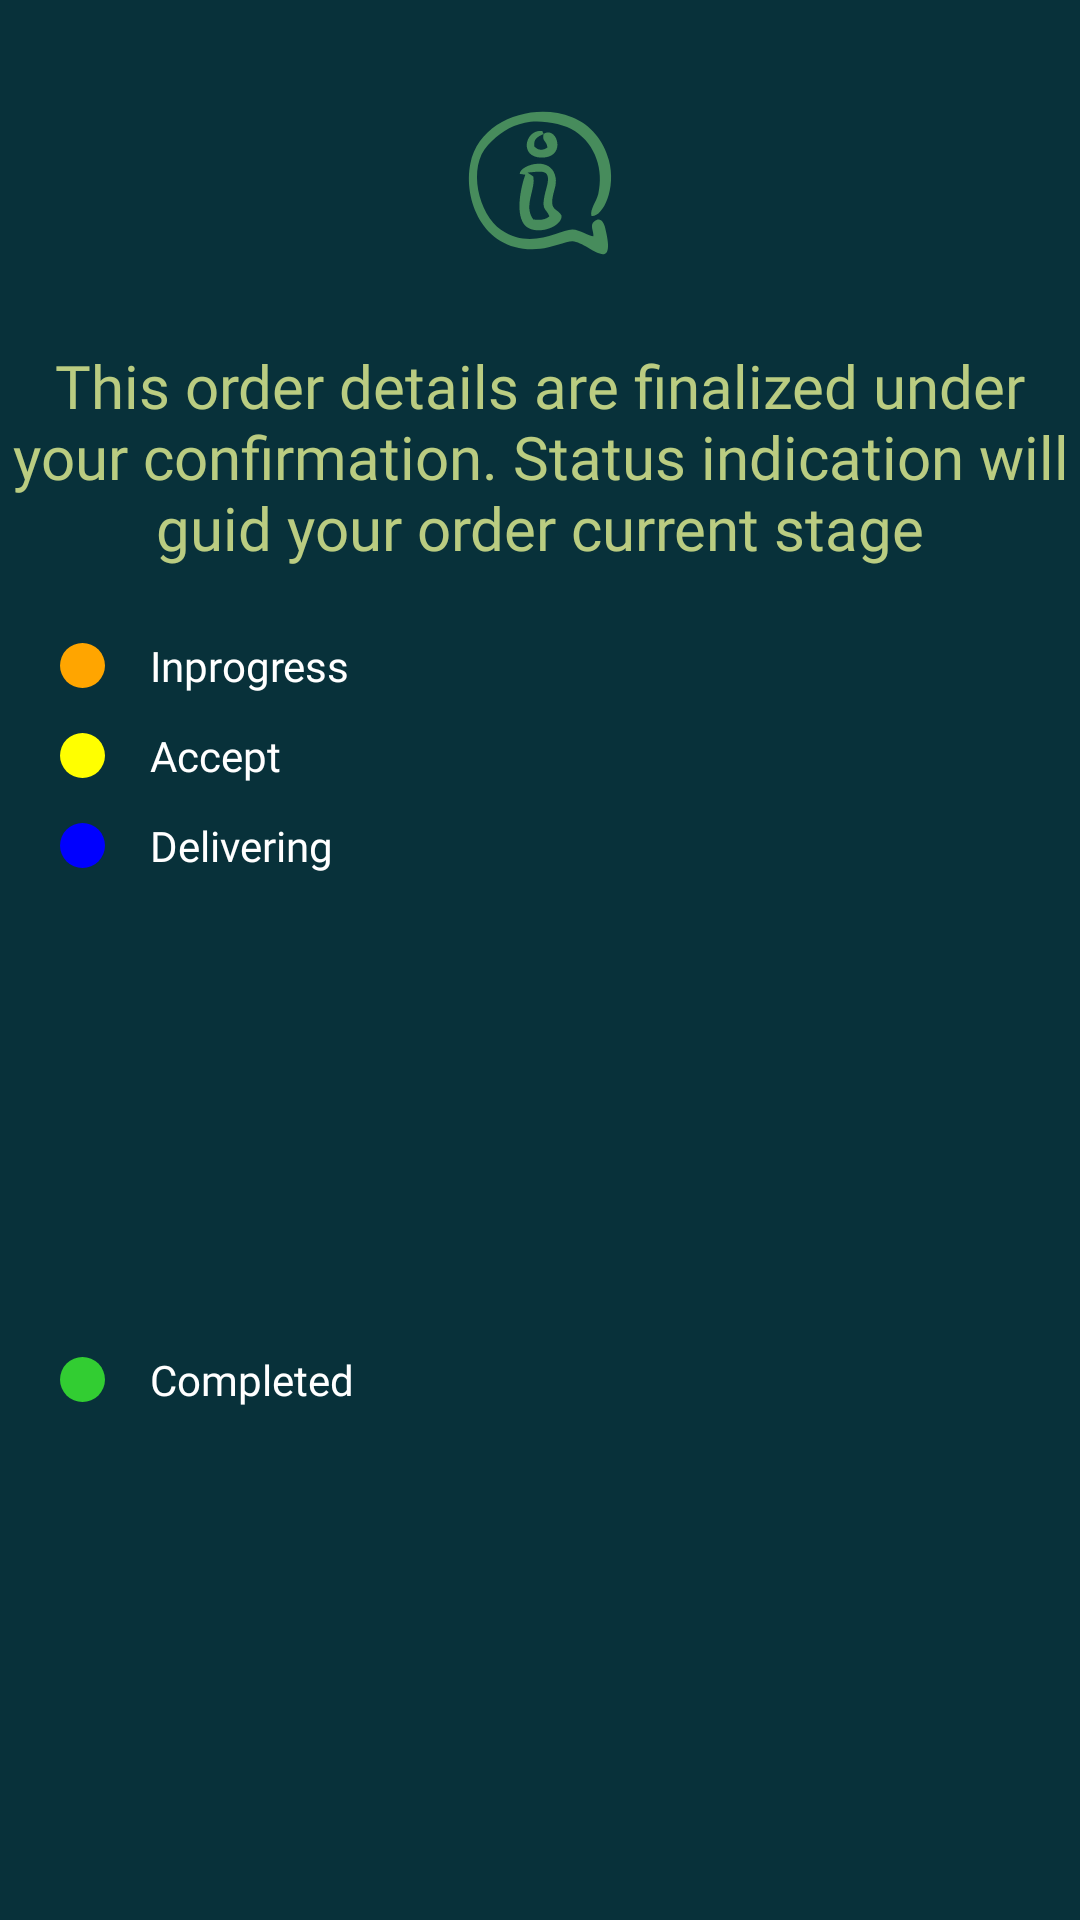

Icon click points for this 1080×1920 phone screenshot, format (x,y):
noun information: (540,183)
